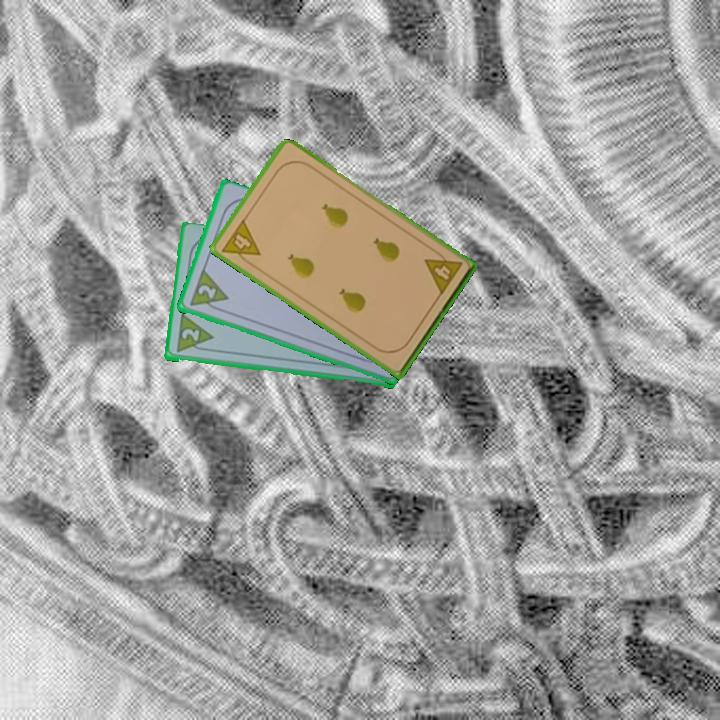2p: (185, 267, 231, 315), (172, 312, 215, 356)
4p: (218, 215, 263, 269), (421, 245, 465, 298)
